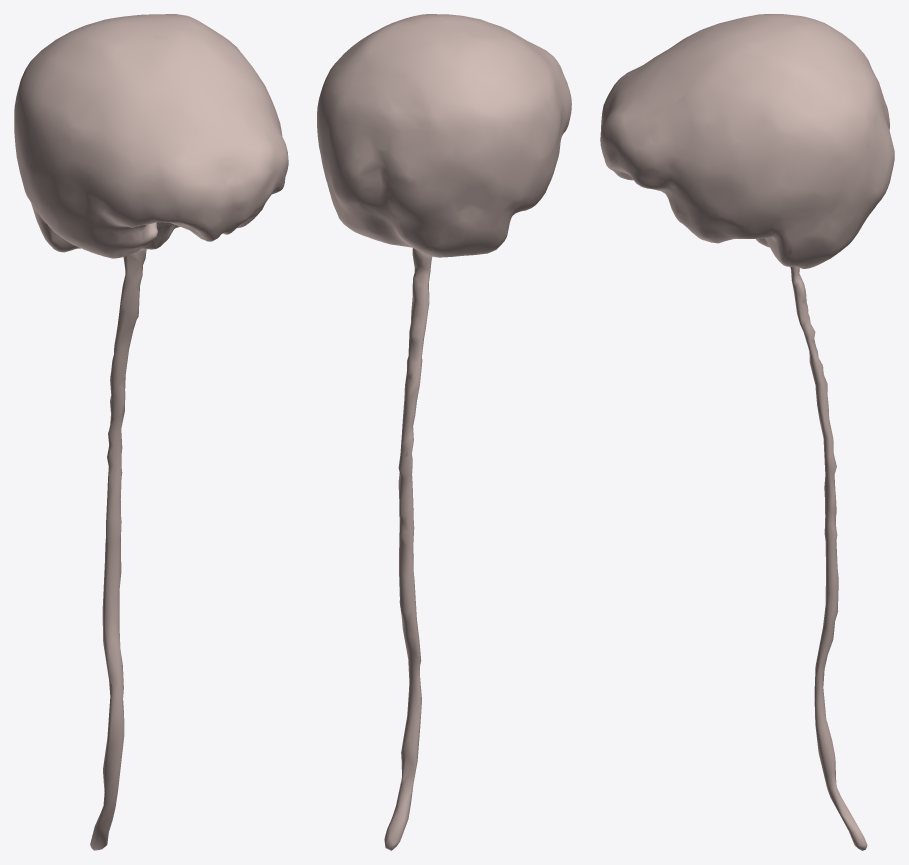
The model's file is pediatric_infant_female.nervous.LOD0.glb.
The picture shows the model from 3 angles, left to right: view 1: azimuth 30°, elevation 25°; view 2: azimuth 150°, elevation 25°; view 3: azimuth 270°, elevation 25°; orthographic projection. The views are drawn at different scales.
Visible parts, largest first — view 1: PEDIATRIC.INFANT.FEMALE.NERVOUS.BRAIN, PEDIATRIC.INFANT.FEMALE.NERVOUS.SPINAL_CORD; view 2: PEDIATRIC.INFANT.FEMALE.NERVOUS.BRAIN, PEDIATRIC.INFANT.FEMALE.NERVOUS.SPINAL_CORD; view 3: PEDIATRIC.INFANT.FEMALE.NERVOUS.BRAIN, PEDIATRIC.INFANT.FEMALE.NERVOUS.SPINAL_CORD.
Boxes of the visible parts, x1,y1,x2,y2 form: PEDIATRIC.INFANT.FEMALE.NERVOUS.BRAIN: (14,14,288,258); PEDIATRIC.INFANT.FEMALE.NERVOUS.SPINAL_CORD: (90,248,146,850); PEDIATRIC.INFANT.FEMALE.NERVOUS.BRAIN: (317,14,571,257); PEDIATRIC.INFANT.FEMALE.NERVOUS.SPINAL_CORD: (384,248,432,850); PEDIATRIC.INFANT.FEMALE.NERVOUS.BRAIN: (600,14,894,268); PEDIATRIC.INFANT.FEMALE.NERVOUS.SPINAL_CORD: (790,266,867,850).
Bounding box in the file's own units: 0.1223 × 0.4378 × 0.1426.
